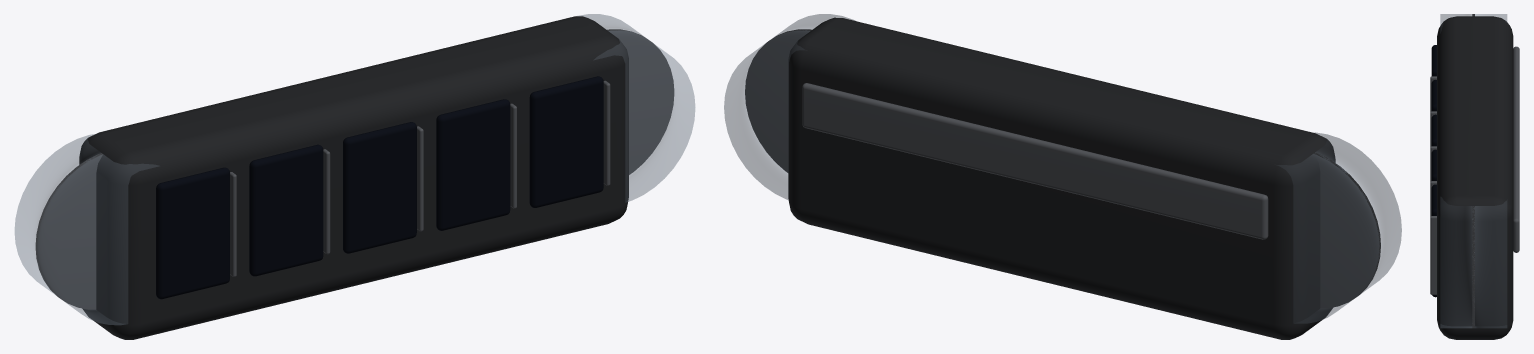
File: p2s_video_so_ong_divoom_times_gate.proxy.glb
3 views of the same model, side by side, from view 1: azimuth 30°, elevation 25°; view 2: azimuth 150°, elevation 25°; view 3: azimuth 270°, elevation 25° (orthographic). The views are drawn at different scales.
Visible parts, largest first — view 1: times_gate_body, times_gate_clear_side_cap, times_gate_clear_side_cap.001, ips_screen.003, ips_screen.004, ips_screen.001, ips_screen, ips_screen.002, times_gate_side_ring, times_gate_side_ring.001, screen_separator_4, screen_separator_1 (+3 smaller); view 2: times_gate_body, times_gate_back_rail, times_gate_clear_side_cap, times_gate_clear_side_cap.001, times_gate_side_ring, times_gate_side_ring.001; view 3: times_gate_body, times_gate_clear_side_cap.001, times_gate_back_rail, screen_separator_4, times_gate_side_ring.001, times_gate_clear_side_cap, ips_screen.004, ips_screen.002, ips_screen, ips_screen.001, ips_screen.003, screen_separator_0 (+3 smaller).
Boxes of the visible parts, x1,y1,x2,y2 form: times_gate_body: (79,16,628,339); times_gate_clear_side_cap: (14,134,158,325); times_gate_clear_side_cap.001: (576,14,695,202); ips_screen.003: (436,99,510,230); ips_screen.004: (529,76,603,207); ips_screen.001: (249,144,323,276); ips_screen: (156,167,229,299); ips_screen.002: (343,122,416,253); times_gate_side_ring: (35,153,103,309); times_gate_side_ring.001: (607,29,674,174); screen_separator_4: (603,80,610,185); screen_separator_1: (323,149,330,254); times_gate_body: (788,17,1335,339); times_gate_back_rail: (802,83,1268,239); times_gate_clear_side_cap: (1278,132,1401,323); times_gate_clear_side_cap.001: (724,14,855,199); times_gate_side_ring: (1313,152,1380,308); times_gate_side_ring.001: (745,29,812,172); times_gate_body: (1437,16,1513,339); times_gate_clear_side_cap.001: (1440,197,1507,328); times_gate_back_rail: (1513,46,1519,252); screen_separator_4: (1430,216,1436,294); times_gate_side_ring.001: (1472,206,1474,328); times_gate_clear_side_cap: (1440,14,1507,32); ips_screen.004: (1431,184,1436,297); ips_screen.002: (1431,114,1436,146); ips_screen: (1431,45,1436,76); ips_screen.001: (1431,80,1436,111); ips_screen.003: (1431,149,1436,180); screen_separator_0: (1430,76,1436,111).
Size of the model in its own units: 0.3475 by 0.097 by 0.0553.
